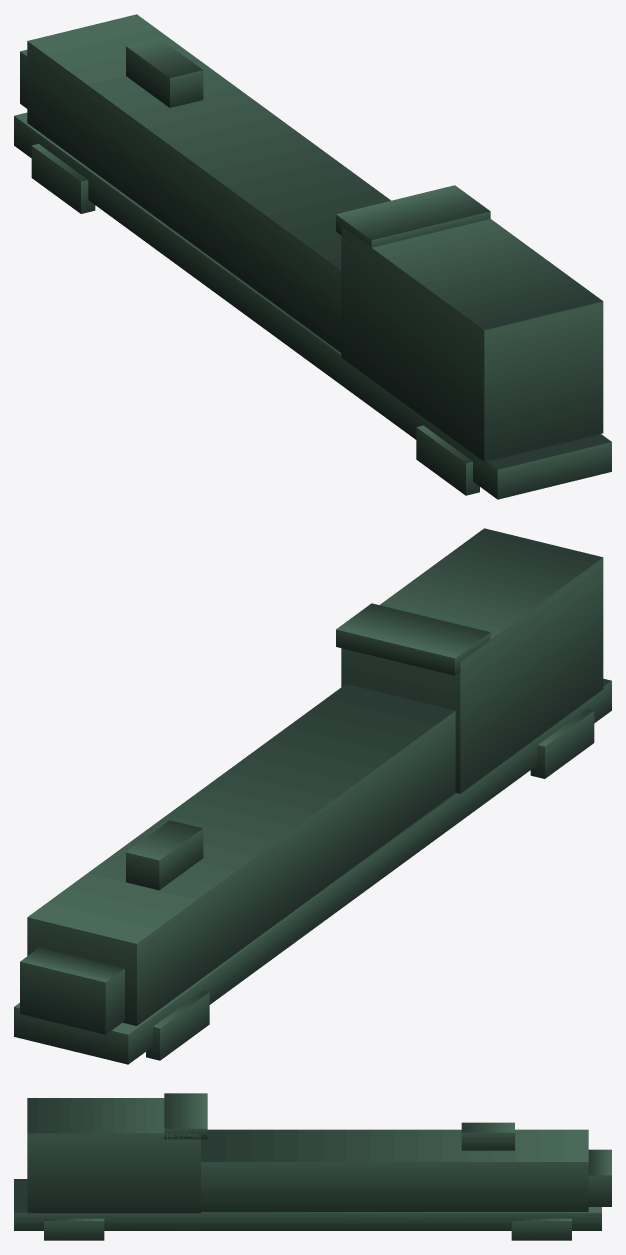
Rendered from train.glb.
3 views of the same model, one above another, from view 1: azimuth 30°, elevation 25°; view 2: azimuth 150°, elevation 25°; view 3: azimuth 270°, elevation 25° (orthographic). The views are drawn at different scales.
Parts seen in each view (by area): view 1: Locomotive; view 2: Locomotive; view 3: Locomotive.
Part boxes in pixels (x1,y1,x2,y2): Locomotive: [14, 14, 611, 499]; Locomotive: [14, 528, 611, 1064]; Locomotive: [14, 1093, 611, 1240].
Size of the model in its own units: 2.7 by 3.65 by 17.9.
1 material, 1 textured.
